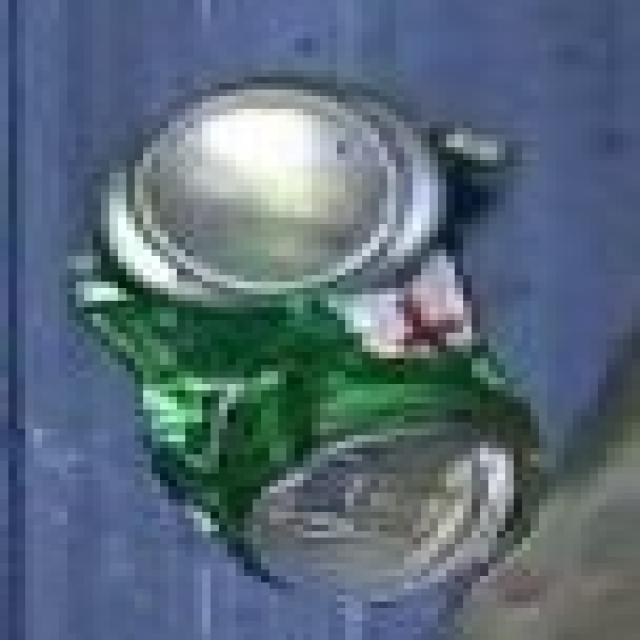litter: (56, 57, 616, 630)
